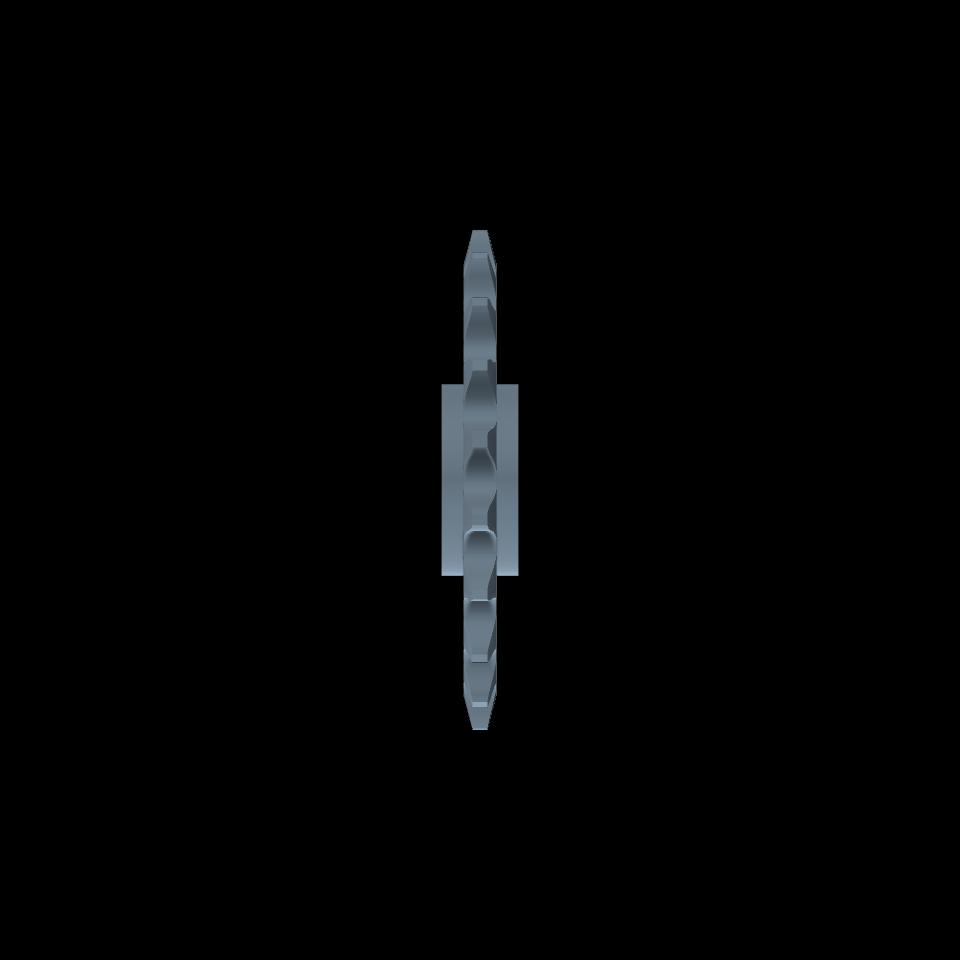Straight: (473, 230, 486, 730)
